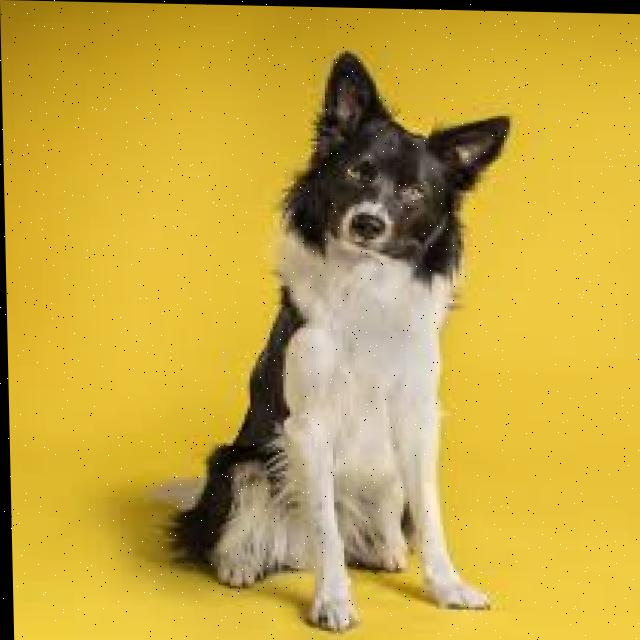BORDER_COLLIE: (130, 38, 521, 624)
